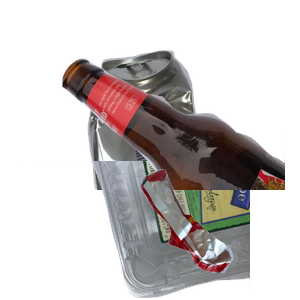glass: (60, 56, 300, 236)
metal: (85, 48, 300, 228)
plastic: (23, 161, 263, 300)
trash: (139, 167, 300, 300)
